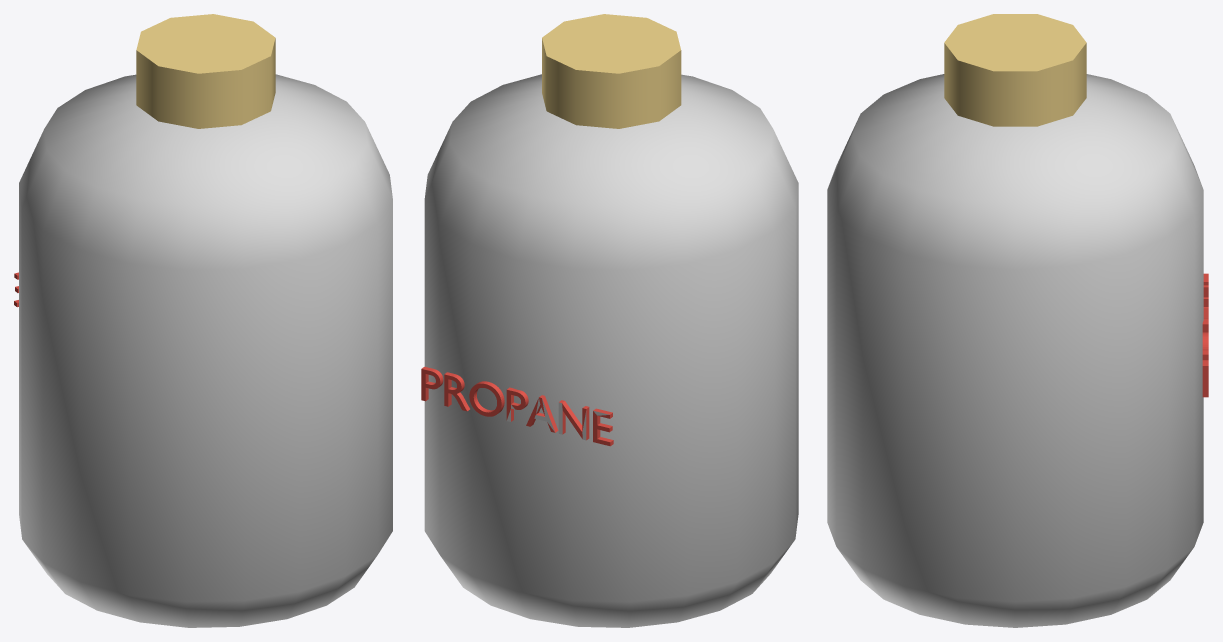
The model's file is propane_cylinder.glb.
The picture shows the model from 3 angles, left to right: view 1: azimuth 30°, elevation 25°; view 2: azimuth 150°, elevation 25°; view 3: azimuth 270°, elevation 25°; orthographic projection.
Visible parts, largest first — view 1: propane_cylinder; view 2: propane_cylinder; view 3: propane_cylinder.
Boxes of the visible parts, <box> form: propane_cylinder: <box>14,14,392,627</box>; propane_cylinder: <box>421,14,798,627</box>; propane_cylinder: <box>827,14,1208,627</box>.
Size of the model in its own units: 0.37 by 0.56 by 0.375.
